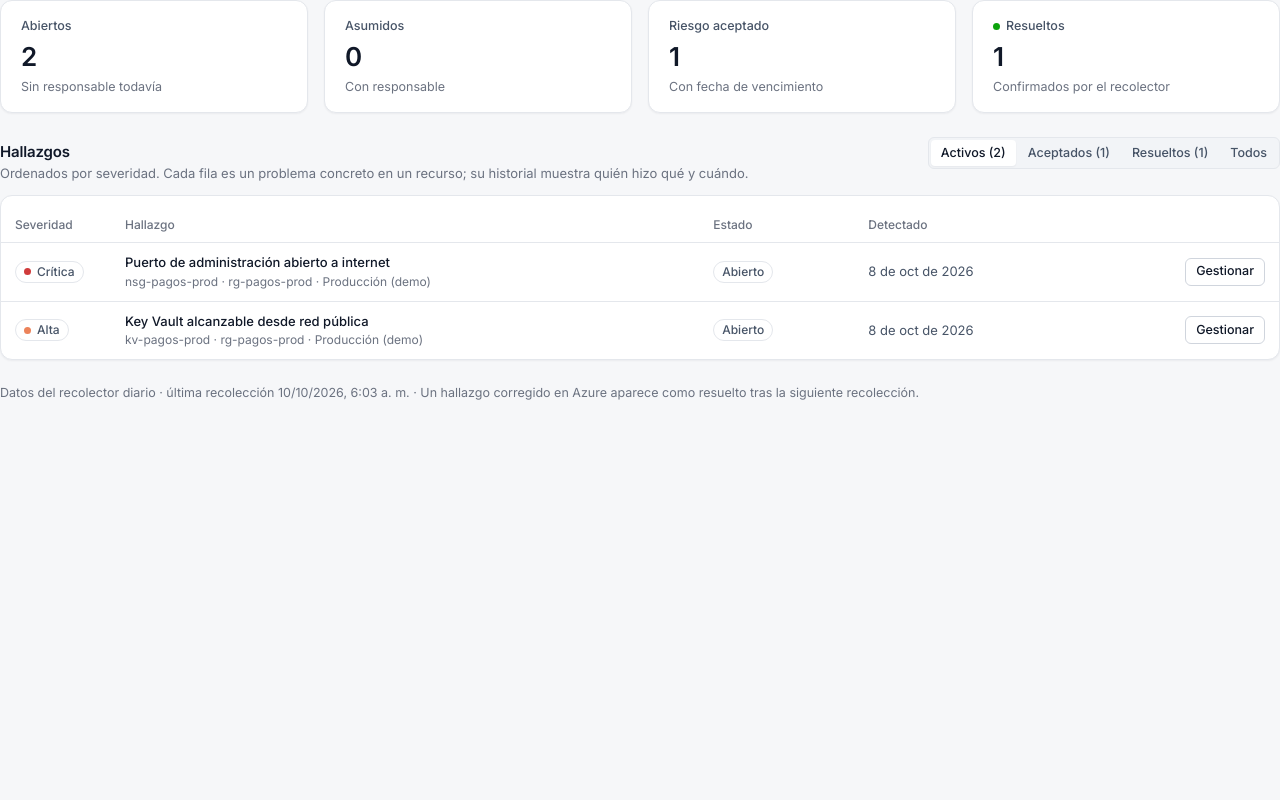
Test: Gestión de hallazgos › un hallazgo resuelto no se gestiona a mano
Expected: the text "kv-pagos-prod" is shown, 125,332 -> 423,347
Click the radio button labelled "Resueltos (1)" at (1170, 153), box 1122,140 -> 1218,166
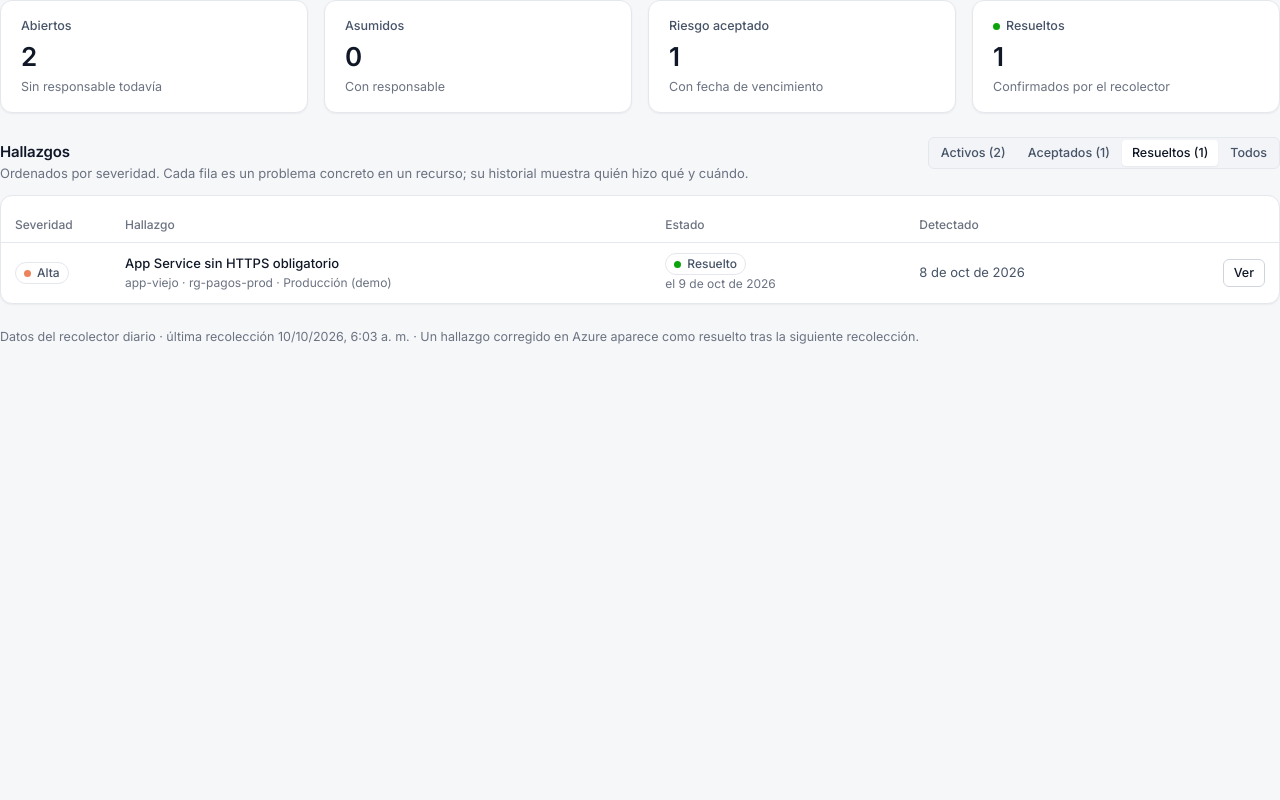
Click the button "Ver" at (1244, 273), box 1223,259 -> 1265,287
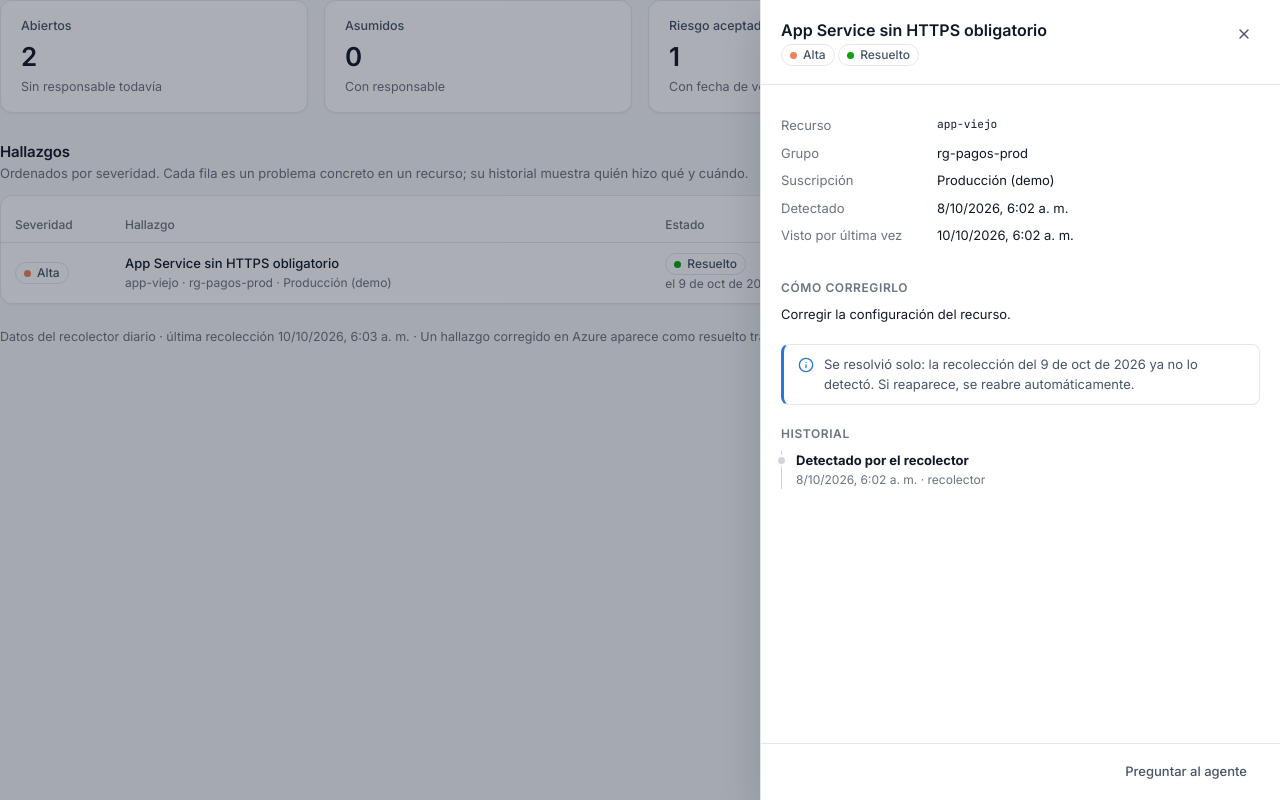
Expected: the text "Se resolvió solo" is shown, 824,356 -> 1040,372
